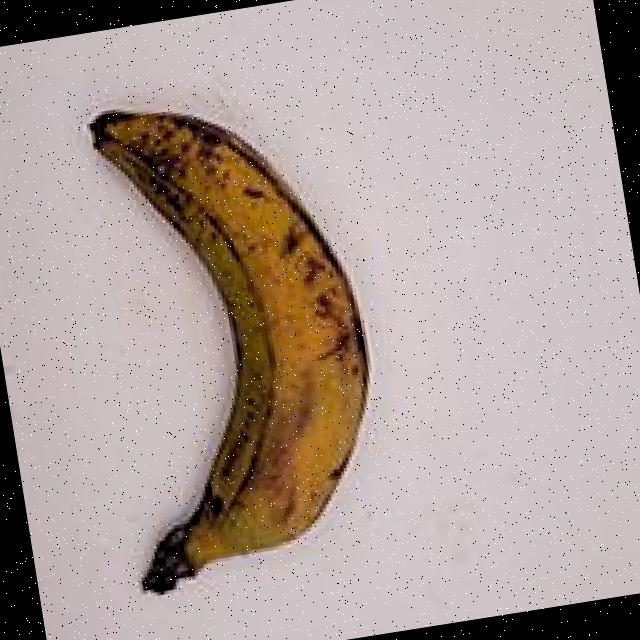Overripe: (30, 44, 423, 629)
